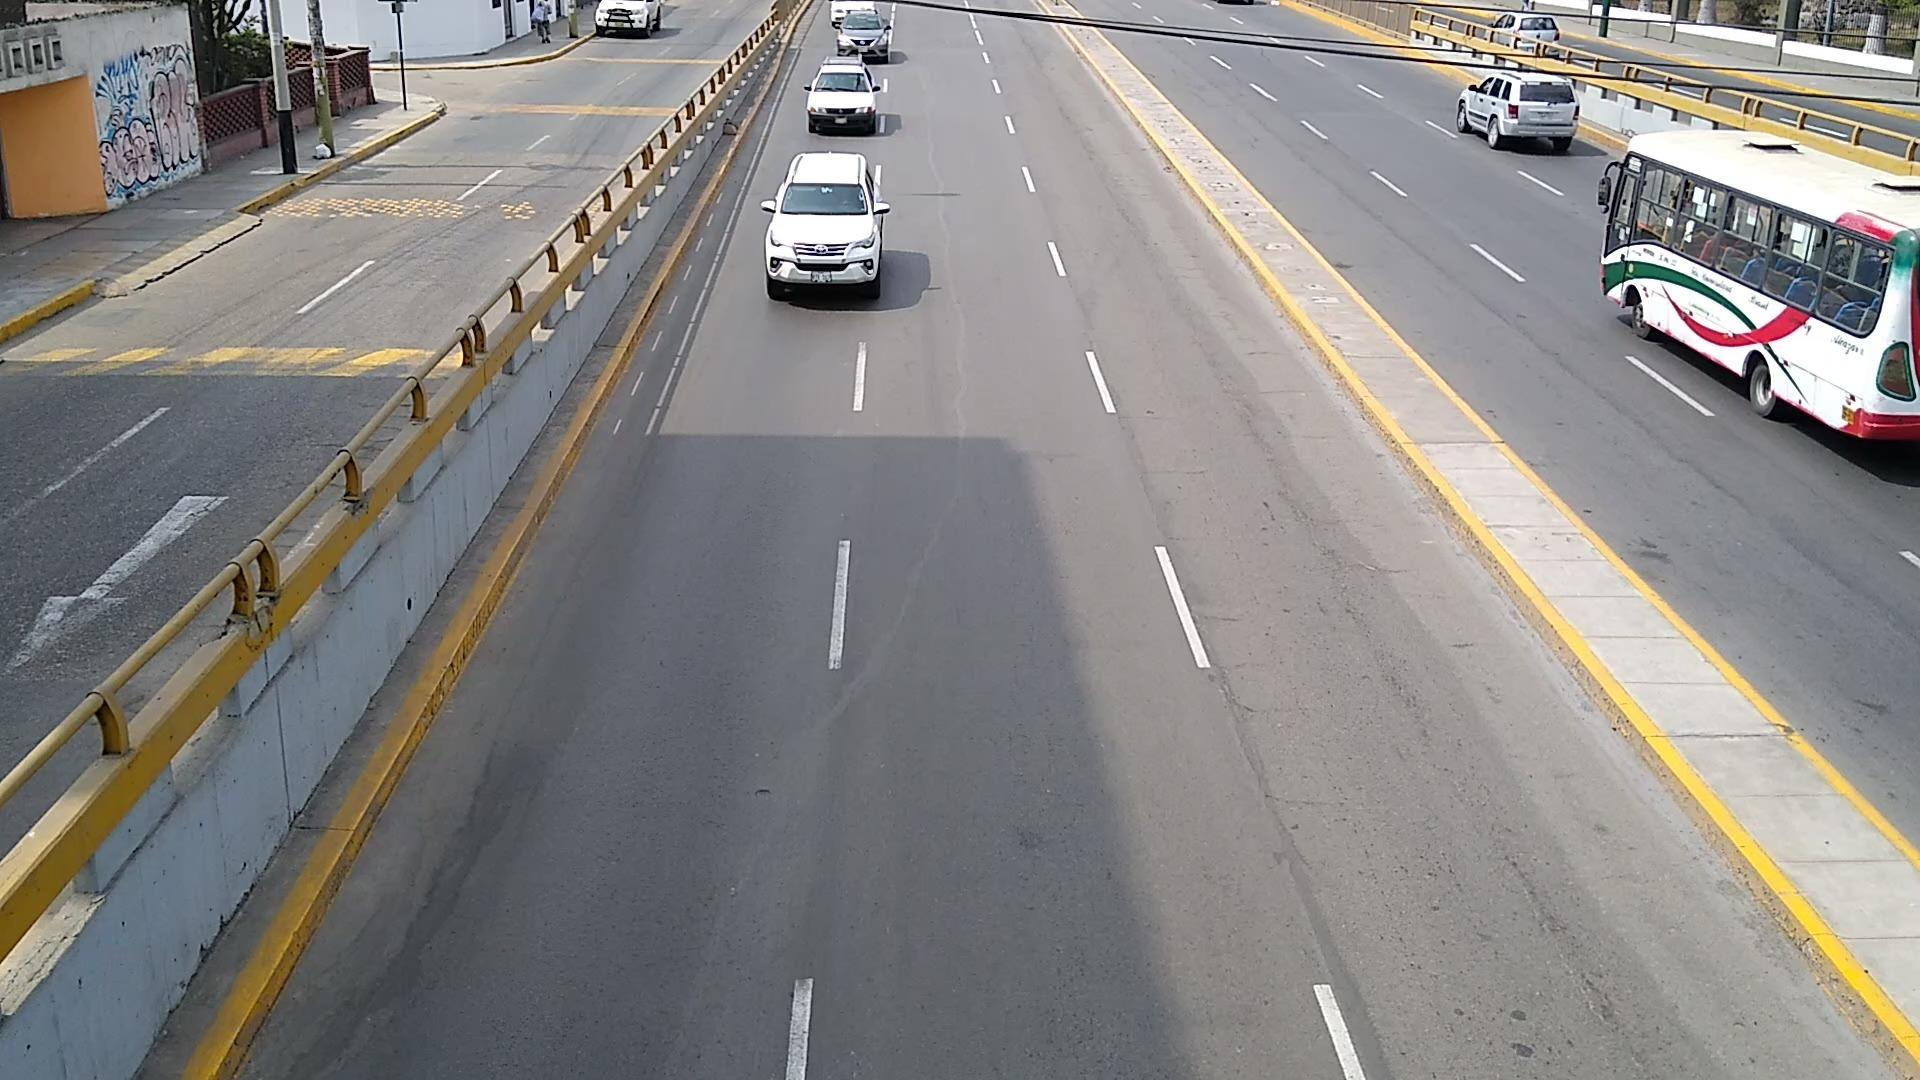bus: (1601, 131, 1920, 439)
car: (761, 154, 889, 300), (1455, 71, 1579, 150), (806, 60, 885, 129), (832, 0, 892, 60), (596, 0, 660, 38)
